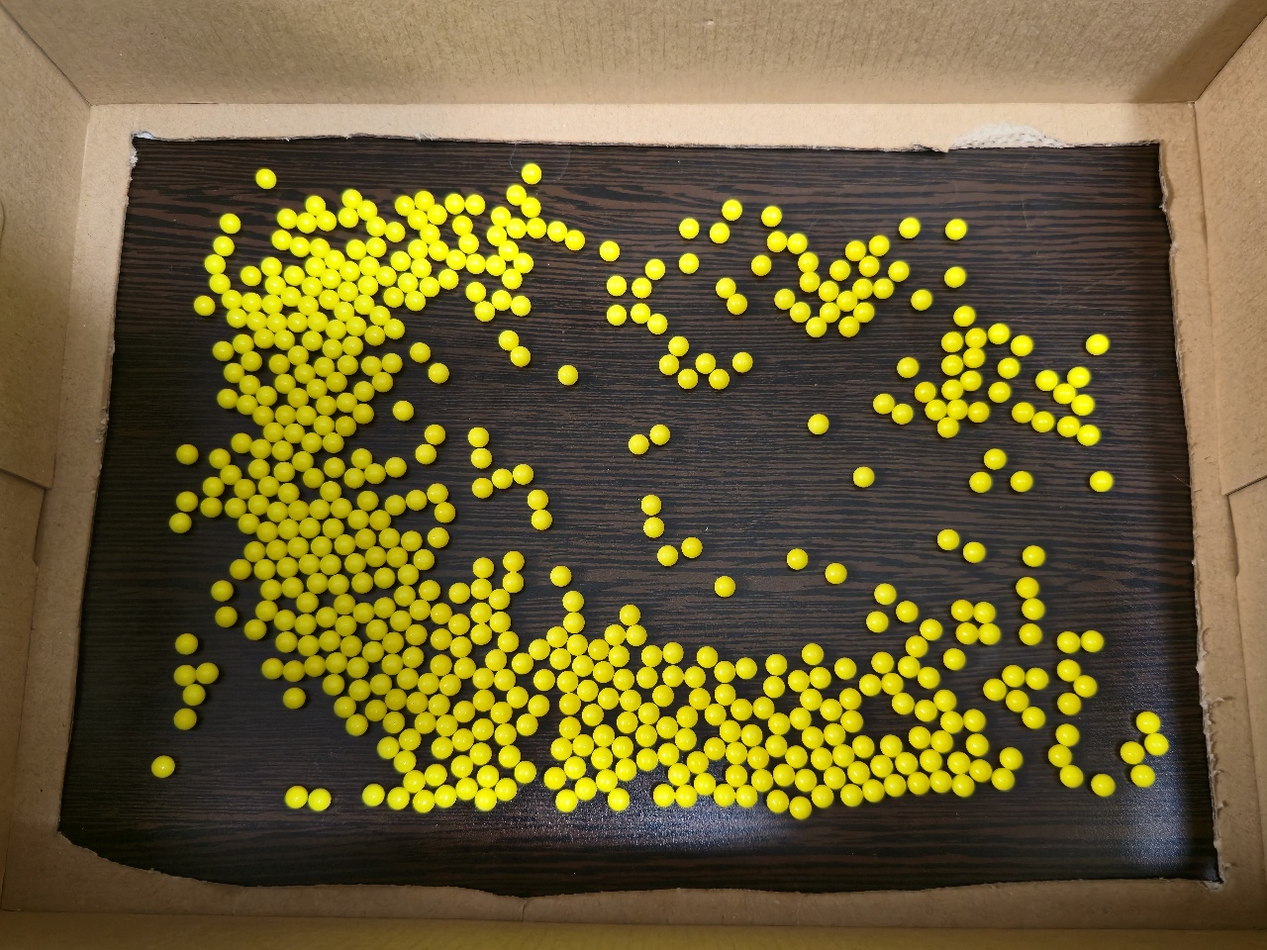yellow_bead: (609, 277, 618, 285), (718, 285, 727, 289), (683, 223, 690, 228), (737, 356, 742, 361), (613, 311, 618, 315), (553, 228, 558, 232), (512, 226, 518, 229), (520, 260, 525, 263), (665, 361, 669, 364), (508, 276, 512, 279), (652, 266, 656, 269), (605, 249, 611, 251), (528, 171, 533, 173), (482, 308, 485, 311), (406, 279, 409, 282), (419, 264, 422, 267), (816, 424, 820, 426), (472, 261, 476, 263), (465, 240, 469, 242), (501, 338, 507, 339), (504, 248, 507, 250), (645, 527, 650, 528), (636, 312, 641, 313), (518, 303, 523, 304), (492, 263, 497, 264), (647, 504, 651, 505), (423, 451, 425, 453), (654, 322, 658, 323), (472, 290, 476, 291), (795, 241, 799, 242), (717, 231, 721, 232), (497, 215, 501, 216), (570, 621, 573, 622), (634, 442, 637, 443), (414, 299, 417, 300), (499, 298, 502, 299), (686, 262, 689, 263), (730, 208, 733, 209), (659, 555, 661, 556), (539, 518, 541, 519), (518, 473, 520, 474), (447, 276, 448, 278), (400, 258, 401, 260), (552, 636, 553, 637), (570, 599, 571, 600), (535, 498, 536, 499), (863, 475, 864, 476), (566, 372, 567, 373), (437, 371, 438, 372), (429, 285, 430, 286), (474, 203, 475, 204), (265, 177, 266, 178)
